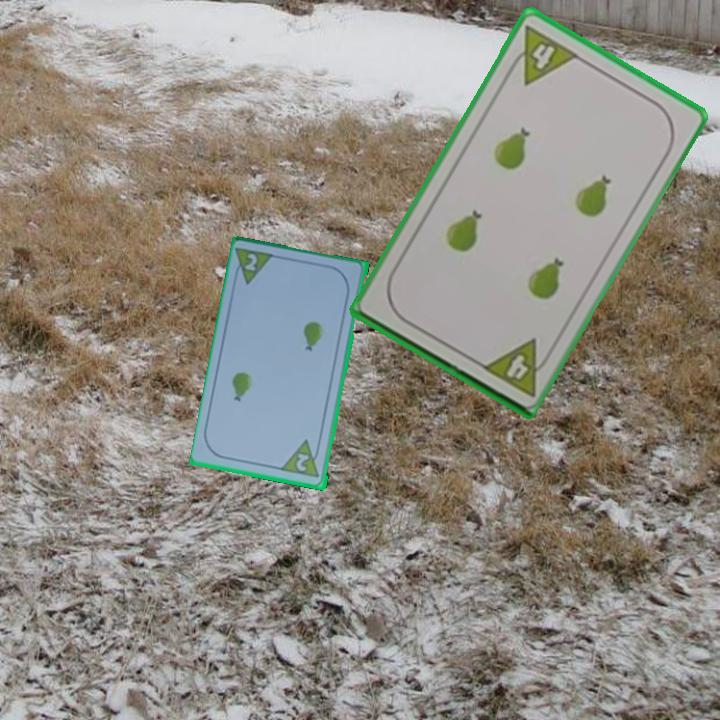2p: (293, 450, 312, 475), (242, 250, 261, 274)
4p: (502, 21, 581, 88), (477, 335, 556, 400)
